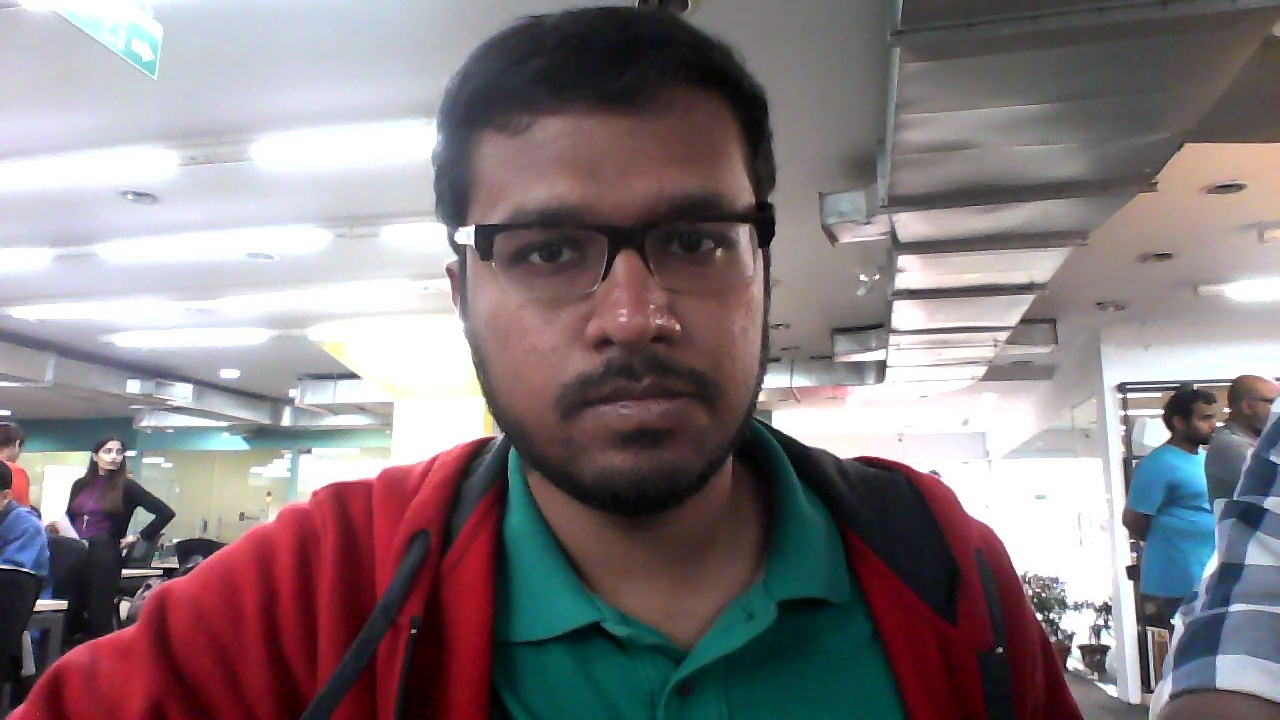open: (424, 3, 817, 531)
